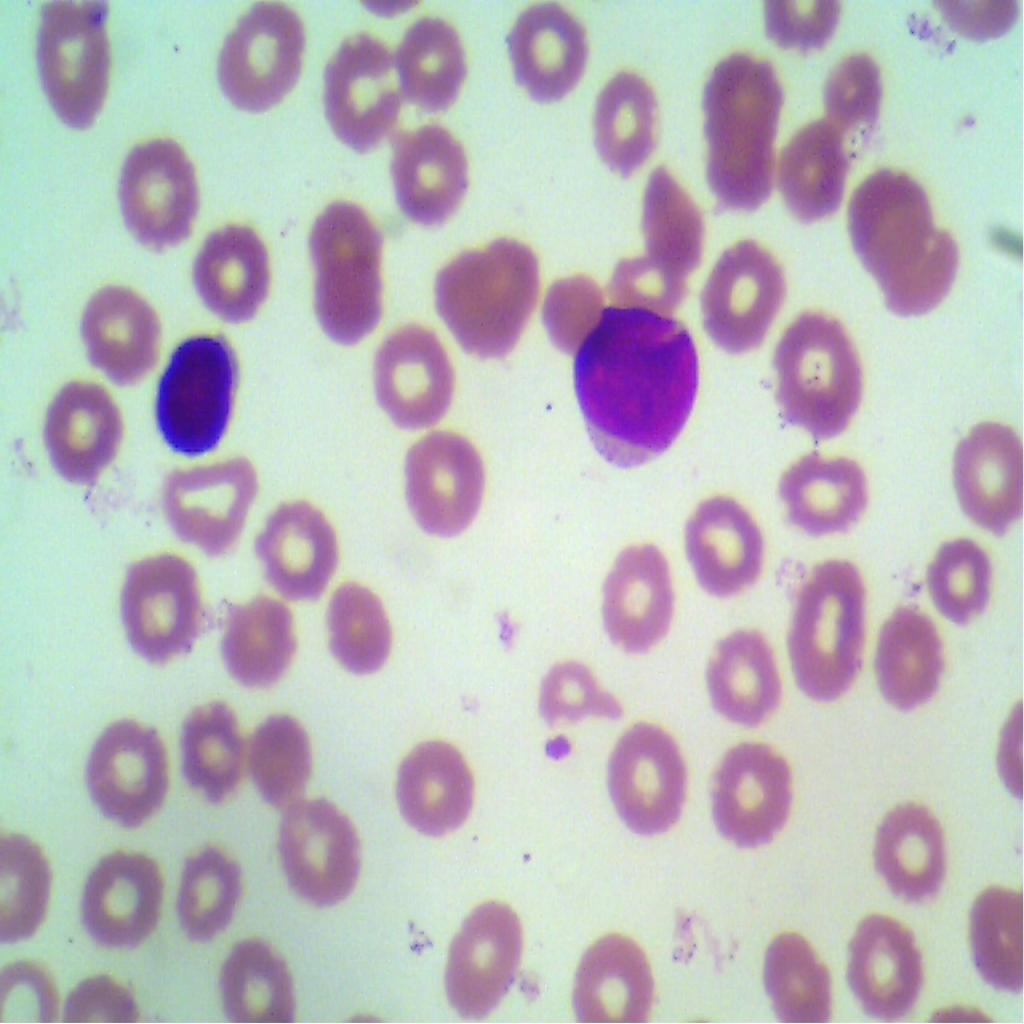Eritrosit: (848, 161, 958, 322), (770, 301, 874, 434), (426, 239, 536, 362), (78, 710, 179, 840), (694, 234, 793, 364), (30, 0, 122, 139), (790, 551, 873, 704), (437, 882, 523, 1023), (277, 787, 373, 912), (707, 738, 803, 862), (394, 420, 488, 544), (110, 547, 214, 658), (565, 918, 674, 1023), (212, 1, 312, 115), (947, 407, 1023, 557), (310, 28, 410, 138), (74, 842, 162, 965), (152, 454, 253, 561), (610, 714, 690, 844), (843, 901, 926, 1023), (393, 741, 485, 850), (242, 492, 339, 594), (39, 371, 122, 489), (602, 535, 683, 655), (365, 310, 450, 424), (780, 438, 873, 541), (70, 278, 162, 382), (378, 115, 470, 219), (574, 61, 660, 172), (317, 575, 400, 688), (122, 132, 197, 255), (165, 834, 243, 952), (682, 494, 772, 595), (706, 616, 786, 728), (925, 530, 1007, 631), (190, 224, 275, 321), (762, 920, 842, 1023), (878, 604, 946, 724), (500, 0, 586, 94), (875, 799, 953, 901), (205, 934, 294, 1023), (534, 651, 628, 735), (700, 52, 790, 139), (179, 694, 248, 806), (772, 125, 847, 227), (239, 710, 317, 808), (634, 165, 708, 268), (0, 828, 57, 957), (224, 592, 298, 690), (394, 15, 474, 104), (522, 261, 598, 351), (306, 260, 387, 340), (307, 198, 383, 282), (703, 115, 777, 201), (607, 251, 682, 324), (827, 50, 883, 135), (5, 955, 60, 1023)
Limfoblast: (575, 305, 703, 475), (150, 327, 243, 464)
Platelet: (539, 722, 585, 770), (542, 390, 559, 420)
